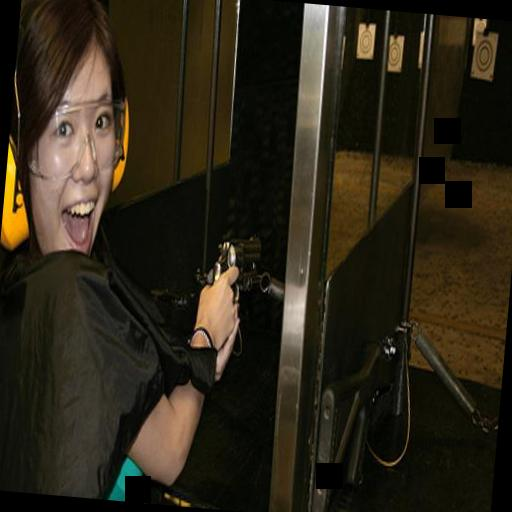Handgun: (204, 225, 262, 318)
